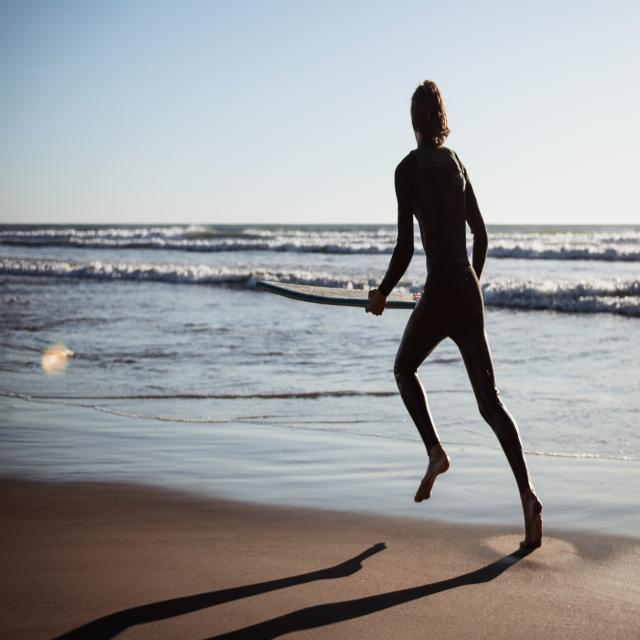running: (360, 73, 550, 560)
